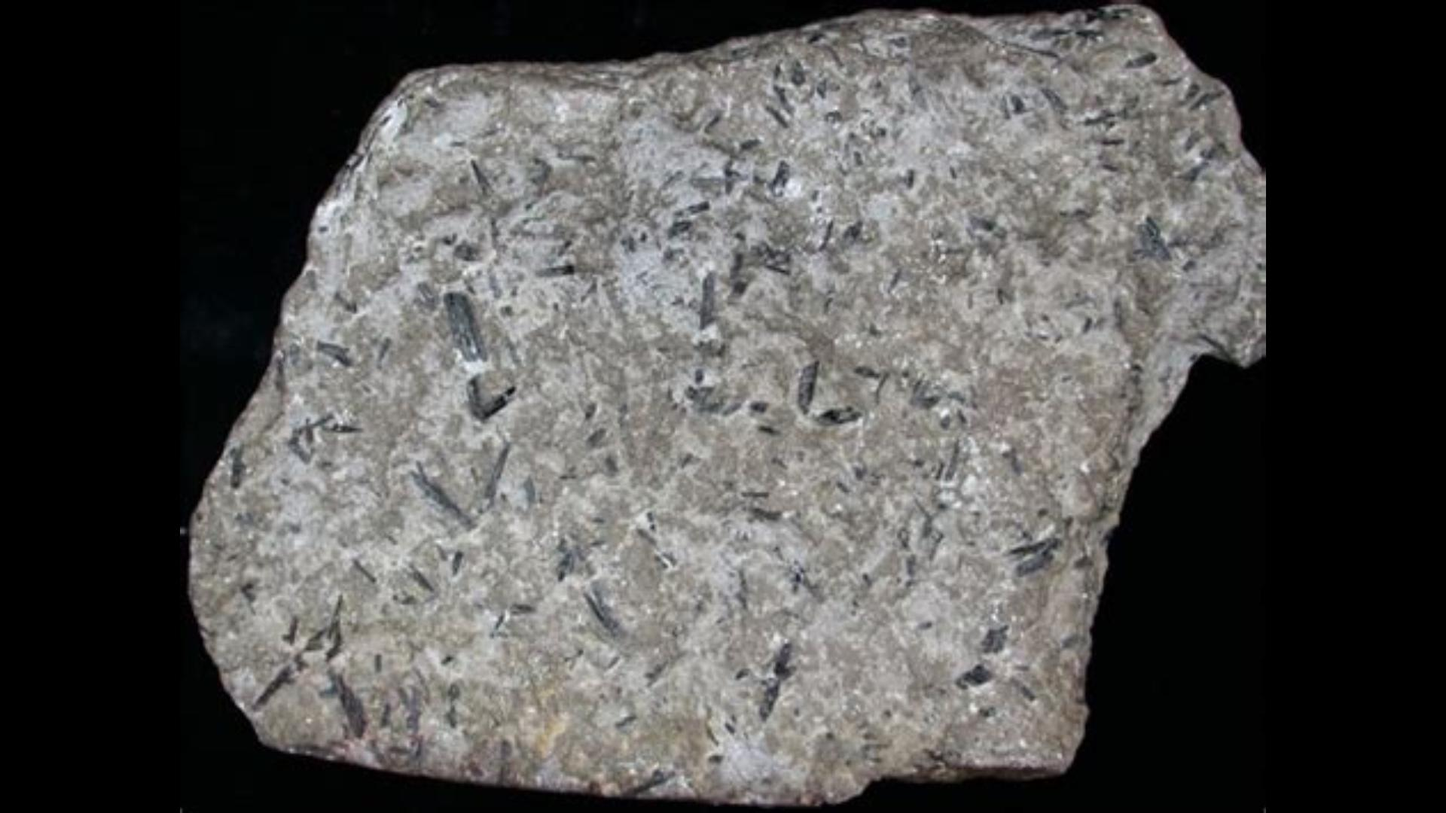rock: (189, 5, 1264, 802)
